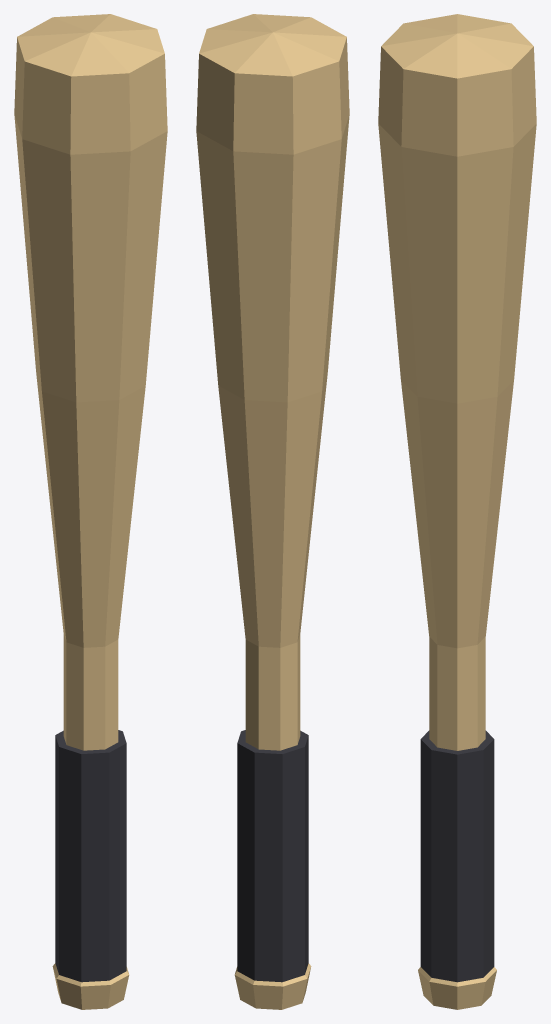
The model's file is BaseballBat.fbx.
3 views of the same model, side by side, from view 1: azimuth 30°, elevation 25°; view 2: azimuth 150°, elevation 25°; view 3: azimuth 270°, elevation 25° (orthographic).
Visible parts, largest first — view 1: BaseballBat; view 2: BaseballBat; view 3: BaseballBat.
Boxes of the visible parts, x1,y1,x2,y2 form: BaseballBat: [14, 14, 167, 1009]; BaseballBat: [196, 14, 349, 1009]; BaseballBat: [378, 14, 536, 1009].
Bounding box in the file's own units: 0.56 × 3.75 × 0.56.
Materials: 1 (1 with a texture image).
